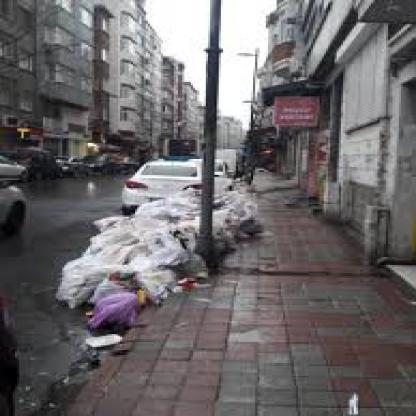Garbage: (69, 209, 200, 331), (60, 256, 204, 330), (64, 206, 200, 270), (216, 192, 274, 260), (75, 336, 131, 352)
